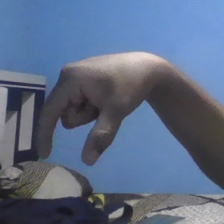Q: (31, 47, 159, 167)
